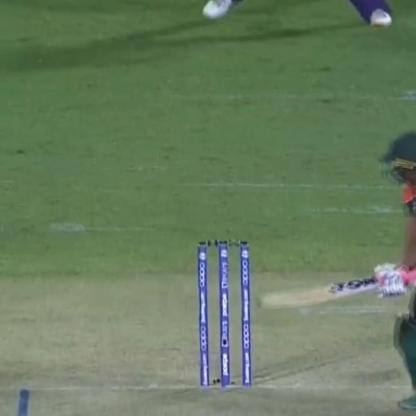bat: (250, 273, 406, 312)
